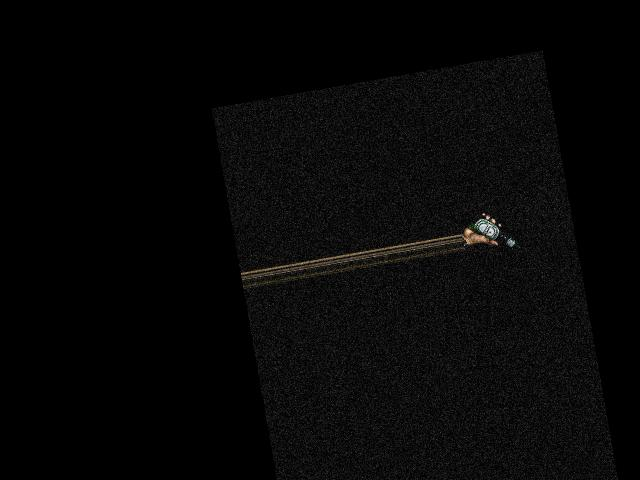beer: (464, 206, 523, 259)
